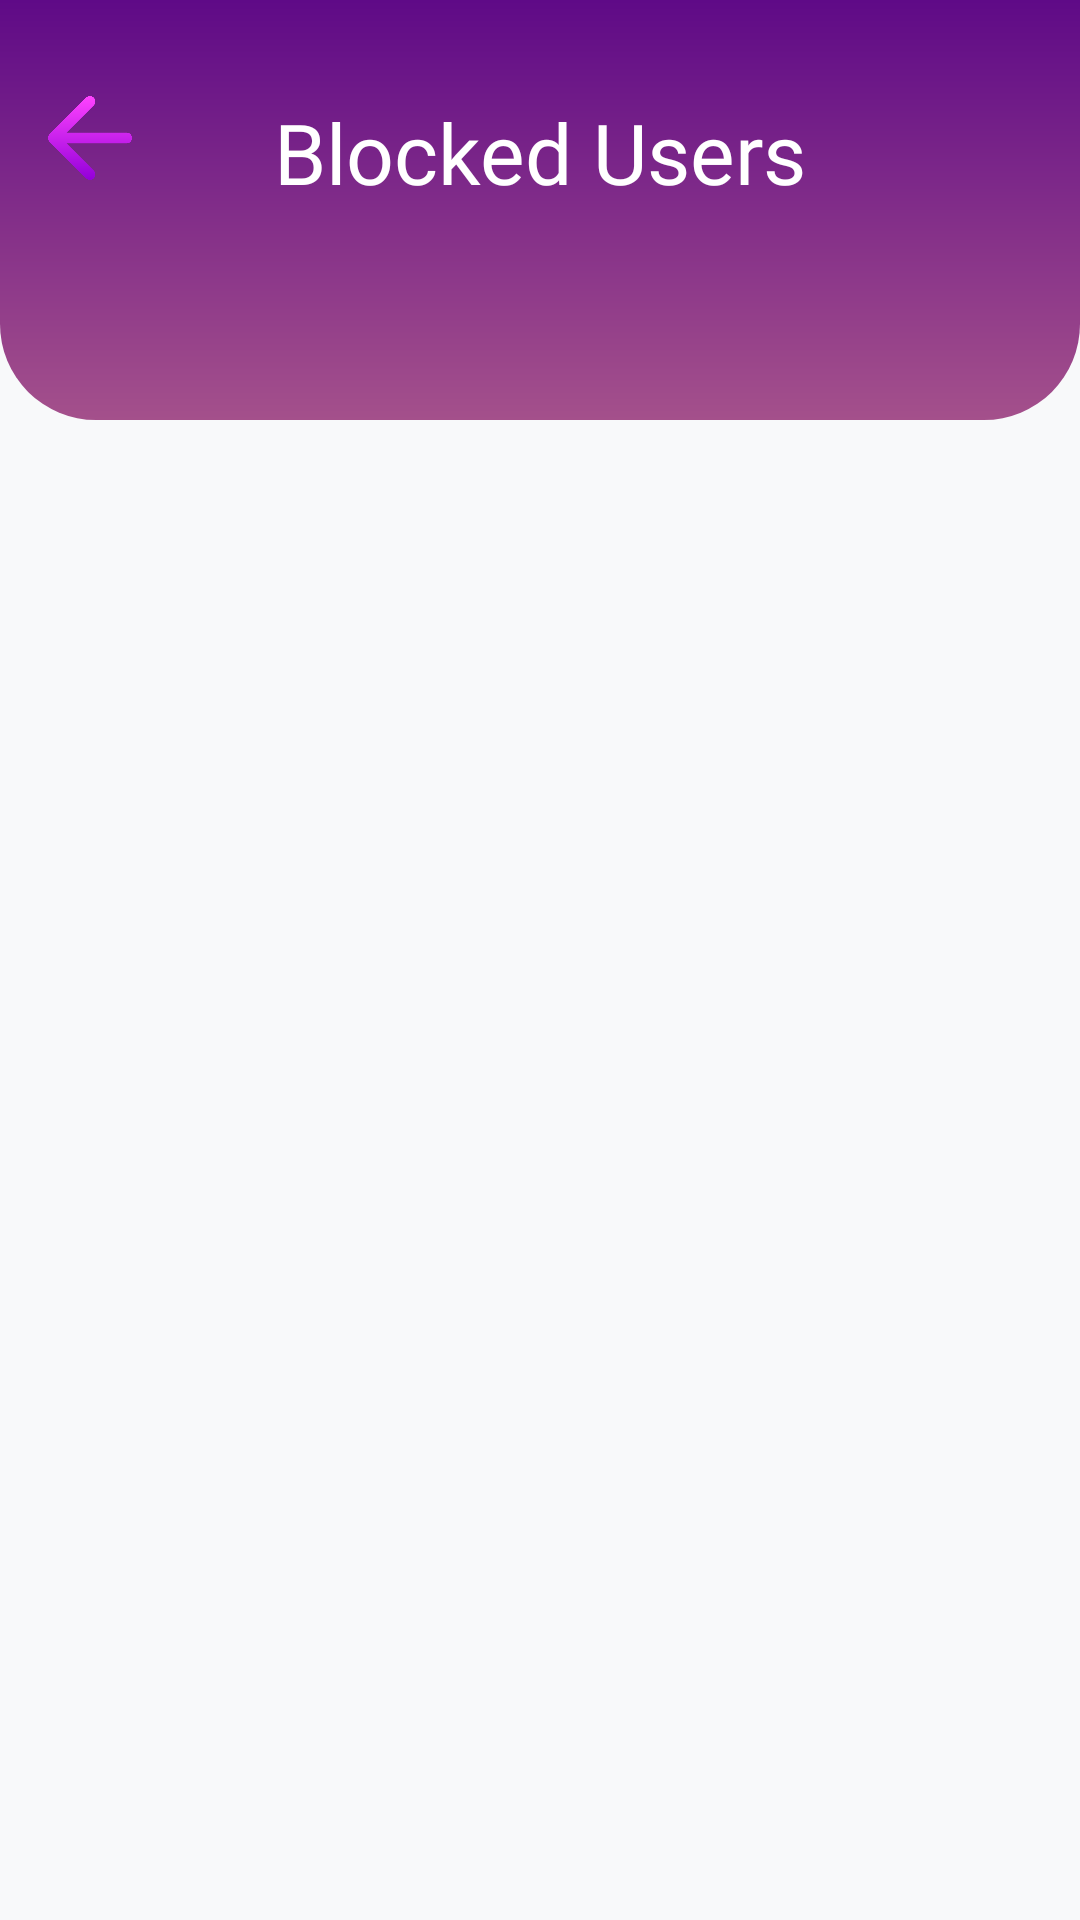

Icons on this 1080*1920 Android screen, each with the point to tap as point (x, y):
Back Button: point (90, 138)
